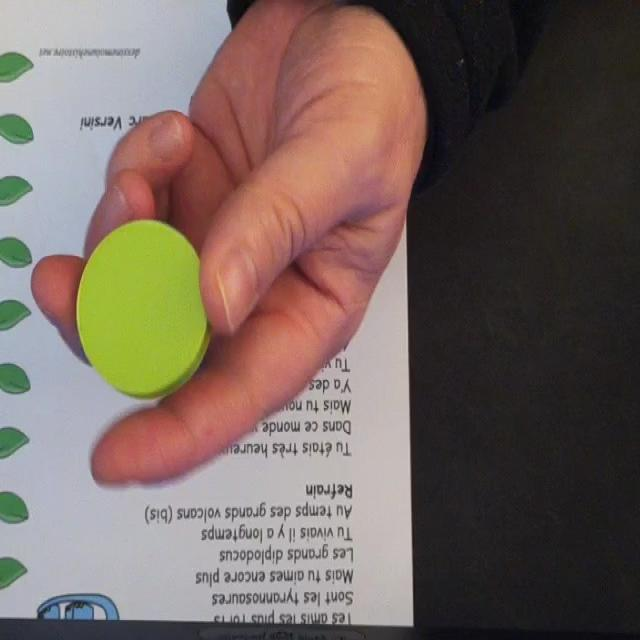round: (75, 218, 210, 398)
